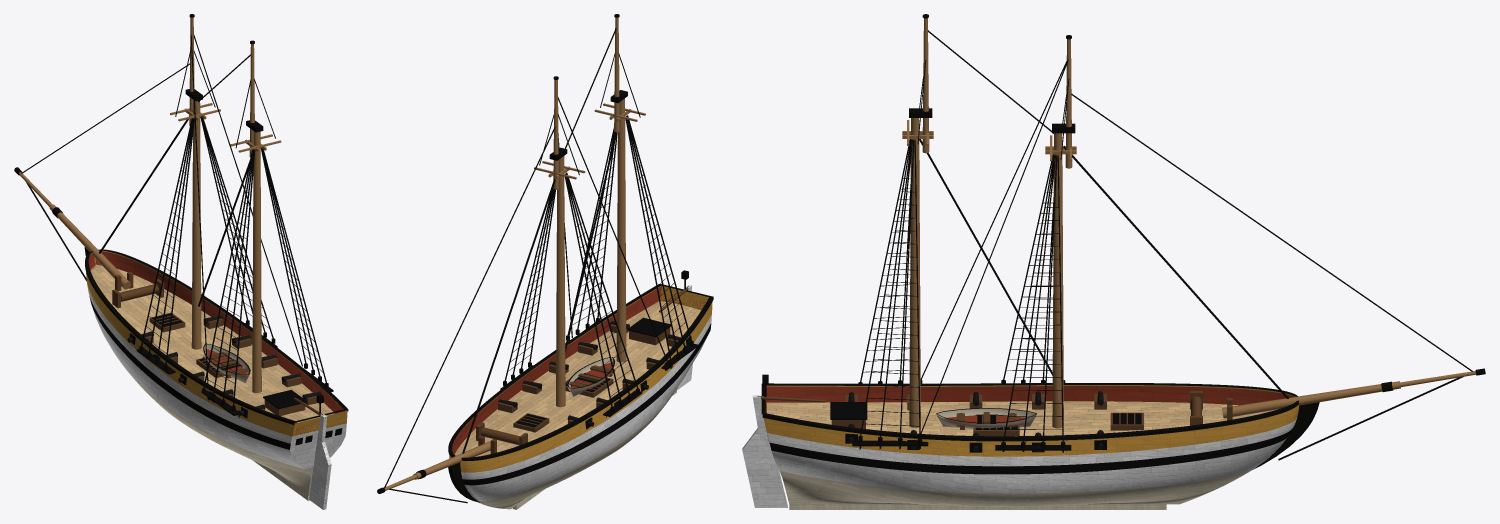
File: schooner.glb
3 renders of one model, left to right at view 1: azimuth 30°, elevation 25°; view 2: azimuth 150°, elevation 25°; view 3: azimuth 270°, elevation 25°, orthographic. The views are drawn at different scales.
Visible parts, largest first — view 1: hull; view 2: hull; view 3: hull.
Boxes of the visible parts, left/top/right/bottom form: hull: left=14, top=14, right=348, bottom=509; hull: left=377, top=14, right=713, bottom=509; hull: left=742, top=14, right=1485, bottom=509.
Bounding box in the file's own units: 5.73 × 20.56 × 28.06.
9 materials, 5 textured.
